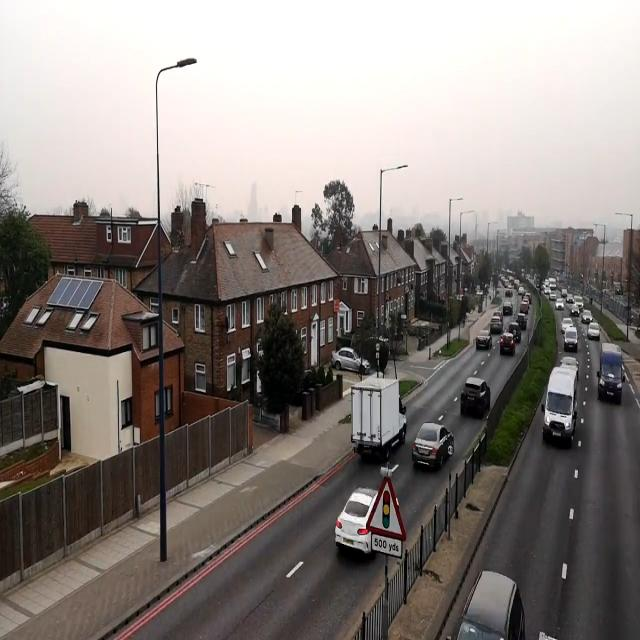Car: (452, 569, 528, 640), (331, 484, 379, 559), (410, 423, 457, 473), (457, 376, 494, 418), (326, 346, 372, 374), (473, 330, 492, 354), (498, 333, 514, 360), (562, 328, 578, 353), (488, 312, 504, 332), (506, 320, 521, 341), (587, 322, 602, 342), (514, 310, 528, 330), (570, 300, 581, 318), (501, 300, 513, 315), (581, 310, 592, 326), (555, 297, 565, 312)
Truck: (349, 370, 409, 459), (542, 366, 580, 448), (598, 339, 626, 406)
